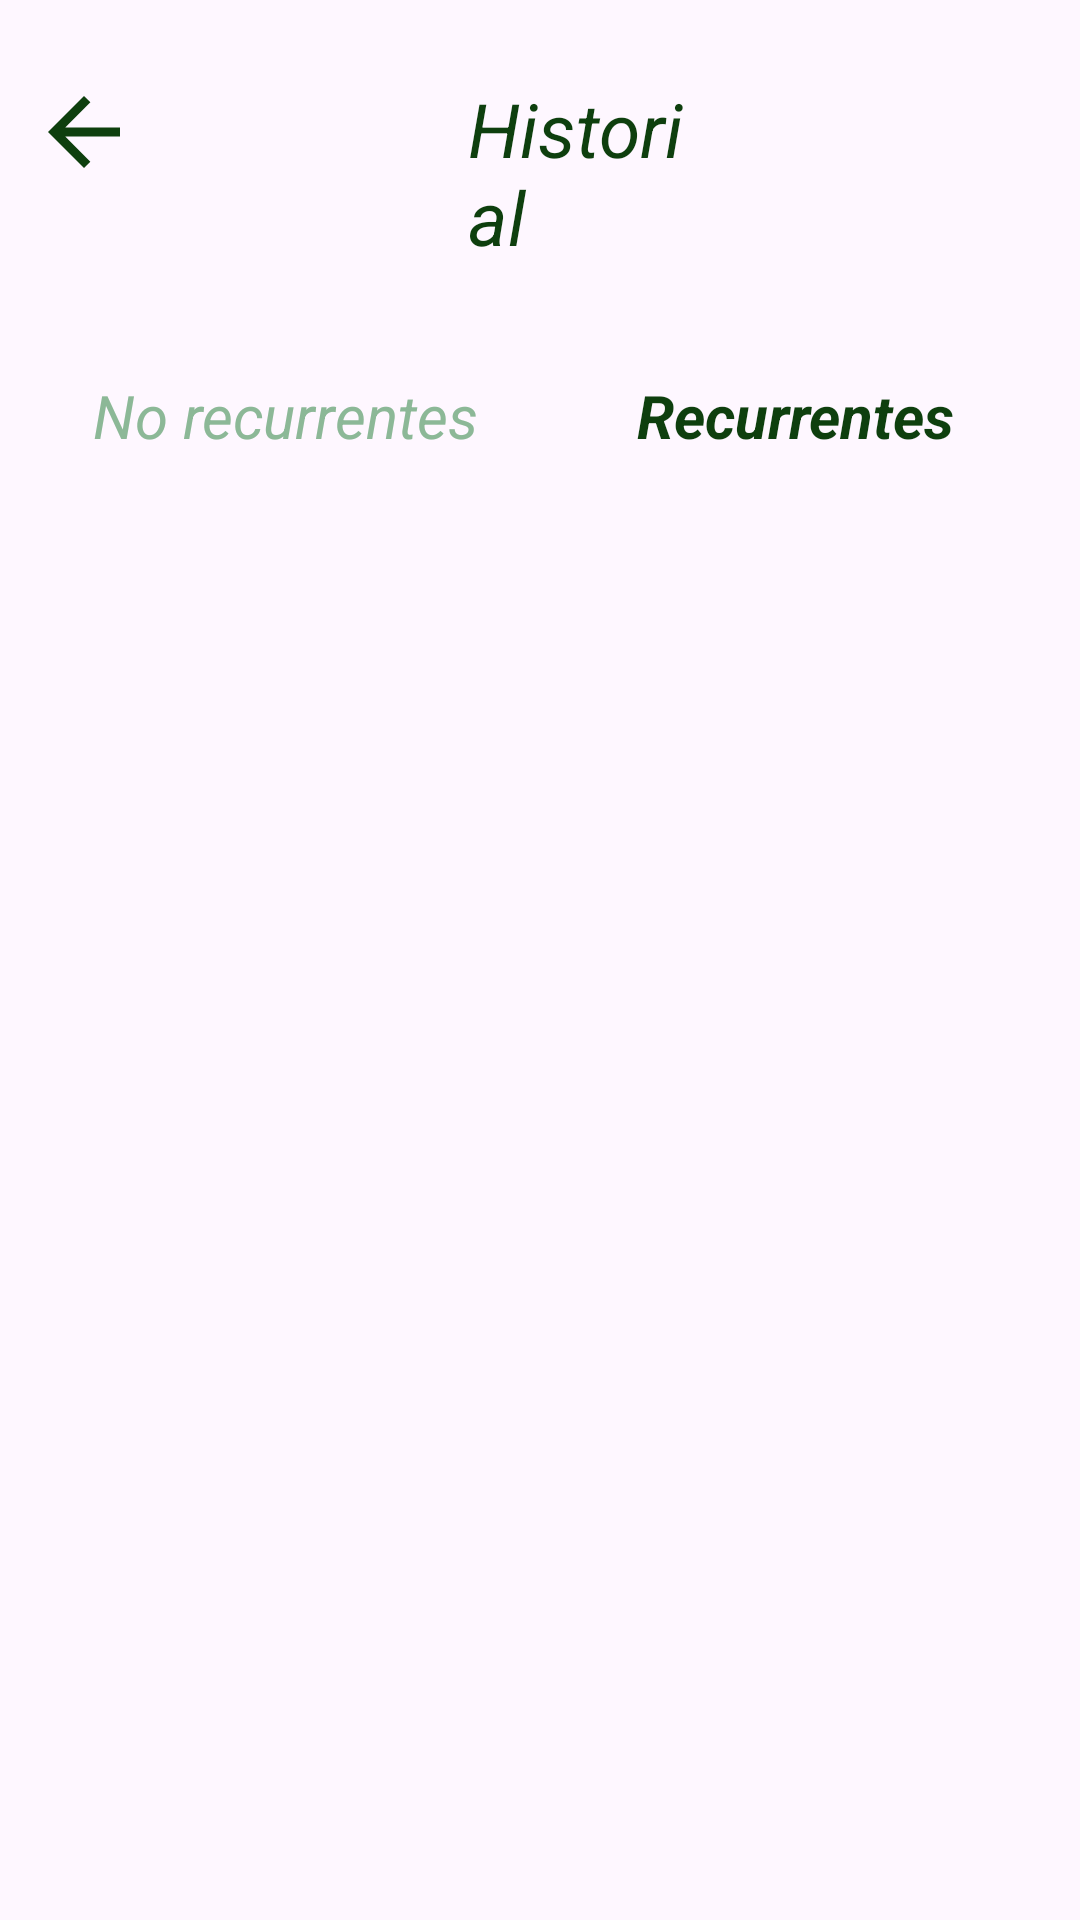

Locate icon controls on the screen. Image size 1080px×1920px, boxes as (x1, y1, x2, y2).
arrow back: (48, 96, 120, 168)
